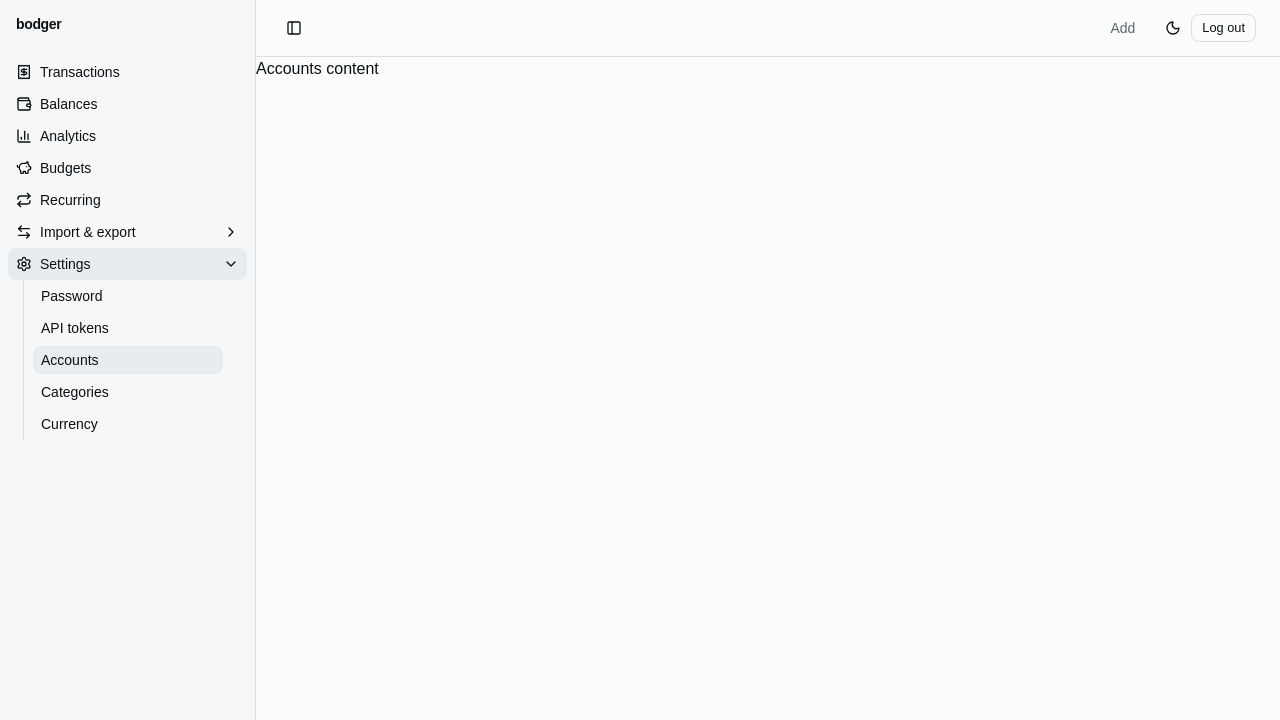
Test case: AppLayout › Settings sidebar submenu › navigates when a section link is clicked
This screenshot has width=1280, height=720.
Click the link "Categories": (75, 392) [41,384,109,400]
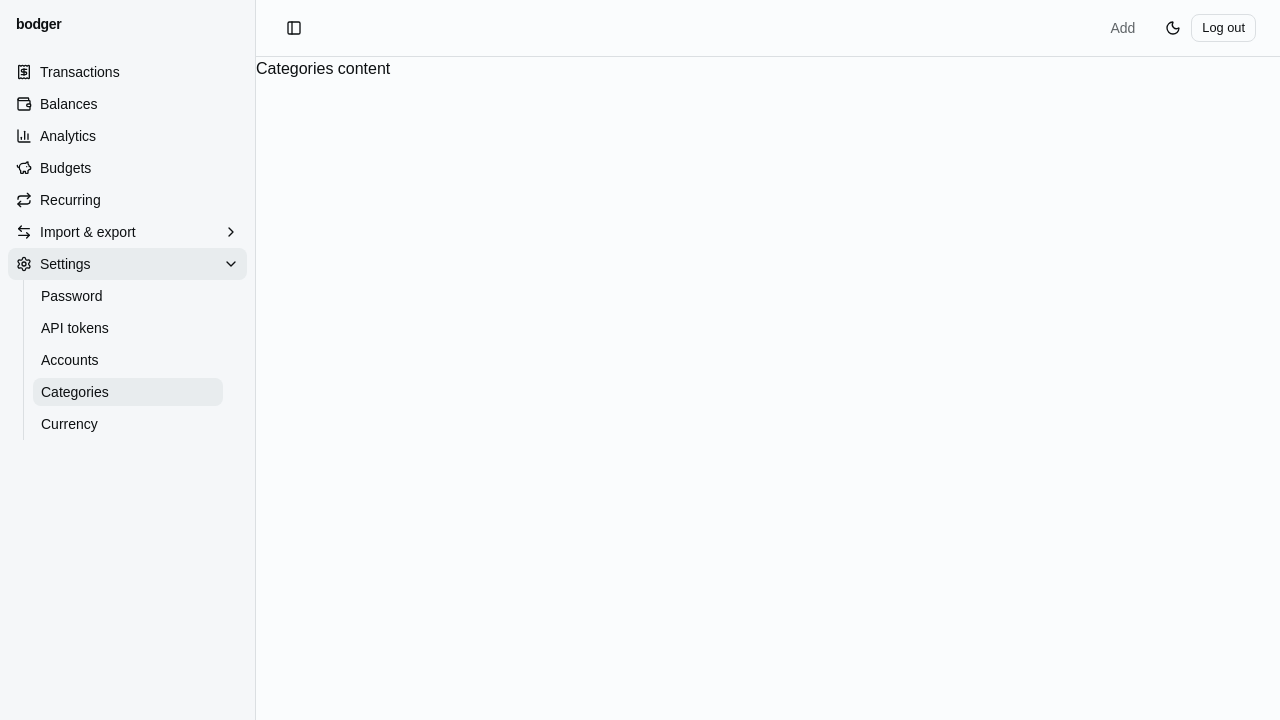
Expected: the text "Categories content" is shown, [256,60,390,77]
